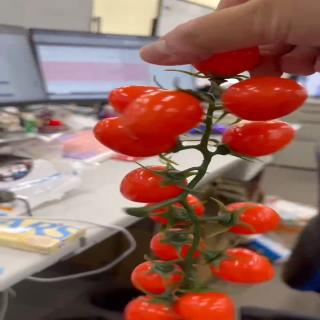tomato: (120, 90, 202, 140), (223, 75, 308, 121), (94, 117, 184, 160), (222, 121, 296, 159), (208, 247, 277, 287), (119, 166, 188, 203), (191, 46, 261, 82), (218, 201, 283, 236), (144, 190, 206, 225), (107, 84, 171, 115), (130, 260, 185, 296), (149, 231, 208, 263), (174, 291, 239, 320), (122, 294, 183, 320)
